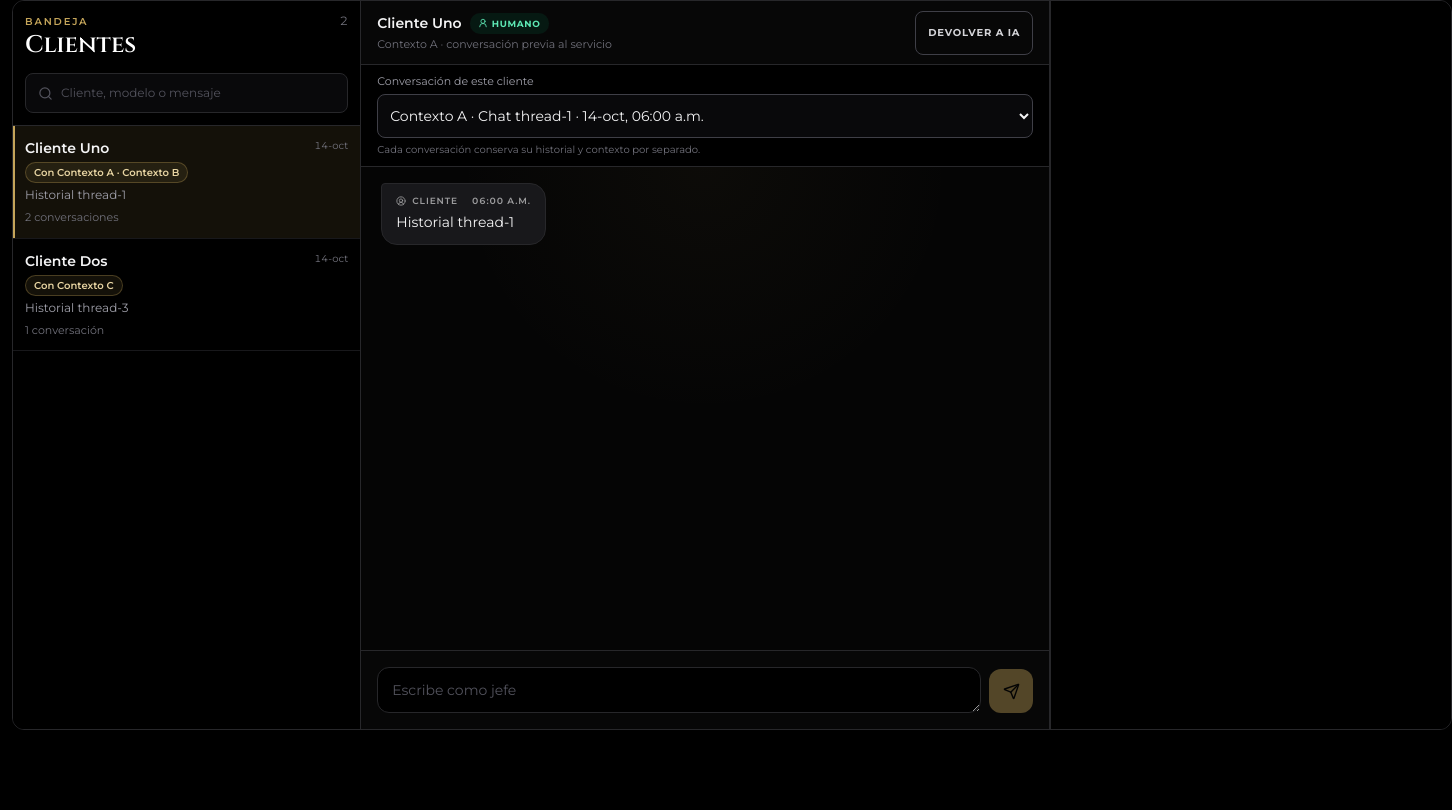
Test: cambia el historial y el contexto sin fusionar mensajes de una misma persona
Expected: the text "Historial thread-1" below "06:00 a.m." is shown, [396, 213, 514, 231]
Expected: the text "Historial thread-2" is not shown
Select "Contexto B · Chat thread-2 · 14-oct, 06:00 a.m." in the dropdown labelled "Conversación de este cliente" at (705, 116), box [377, 94, 1033, 138]
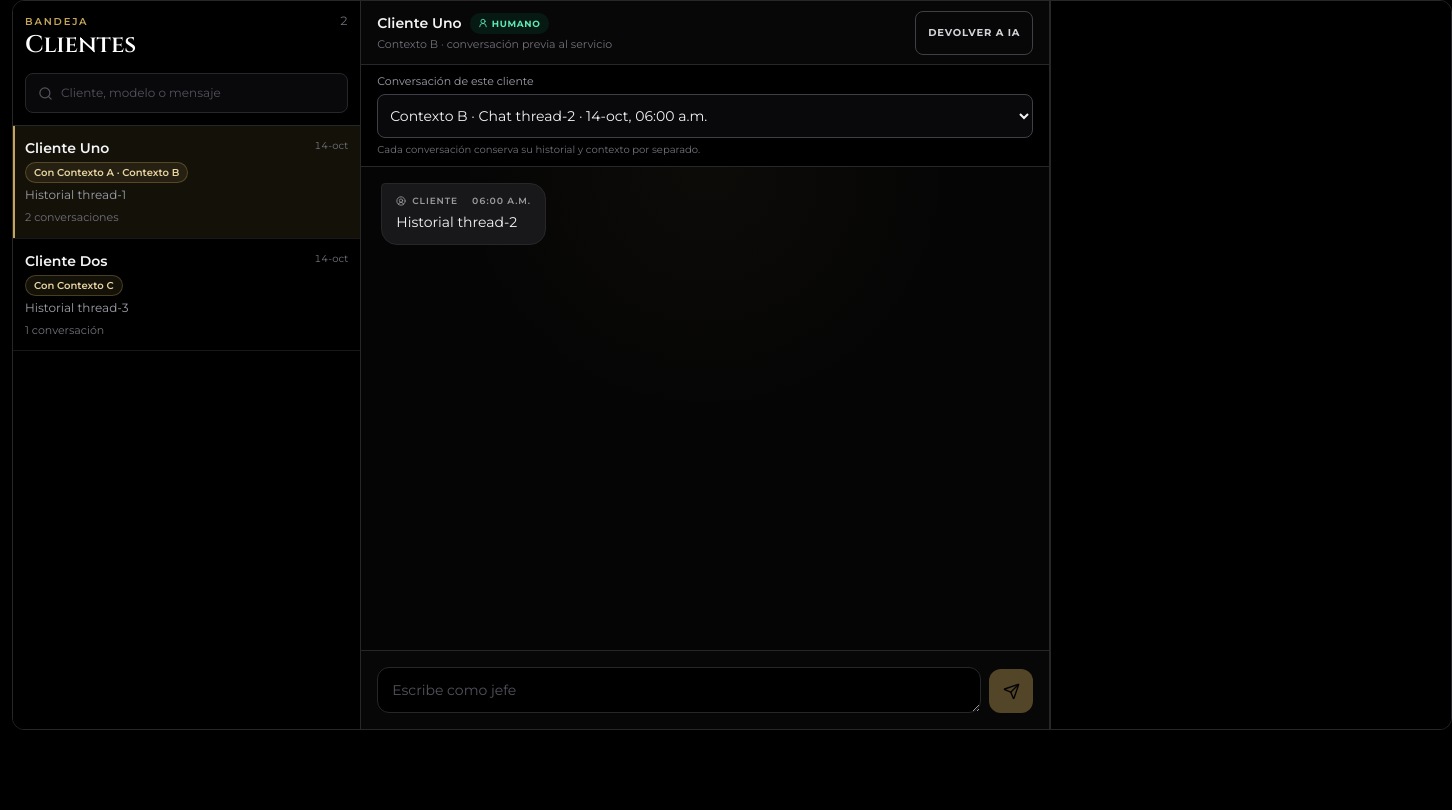
Expected: the text "Historial thread-2" is shown, [396, 211, 531, 234]
Expected: the text "Contexto B · conversación previa al servicio" is shown, [377, 37, 612, 51]
